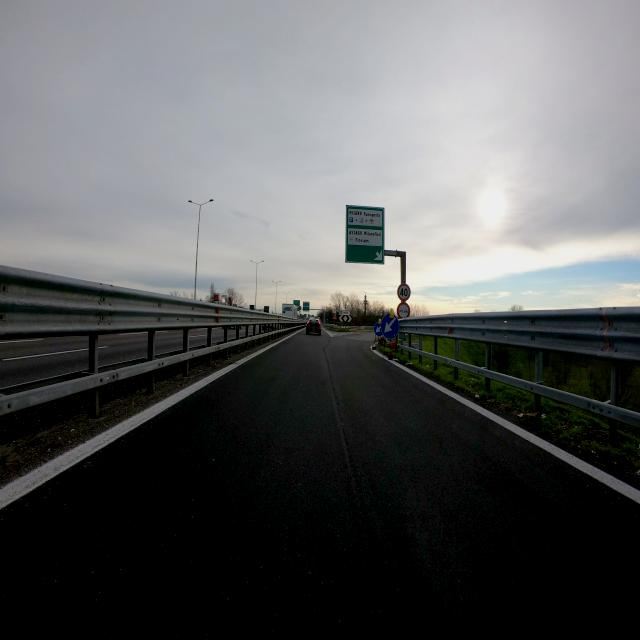car: (305, 316, 322, 336)
